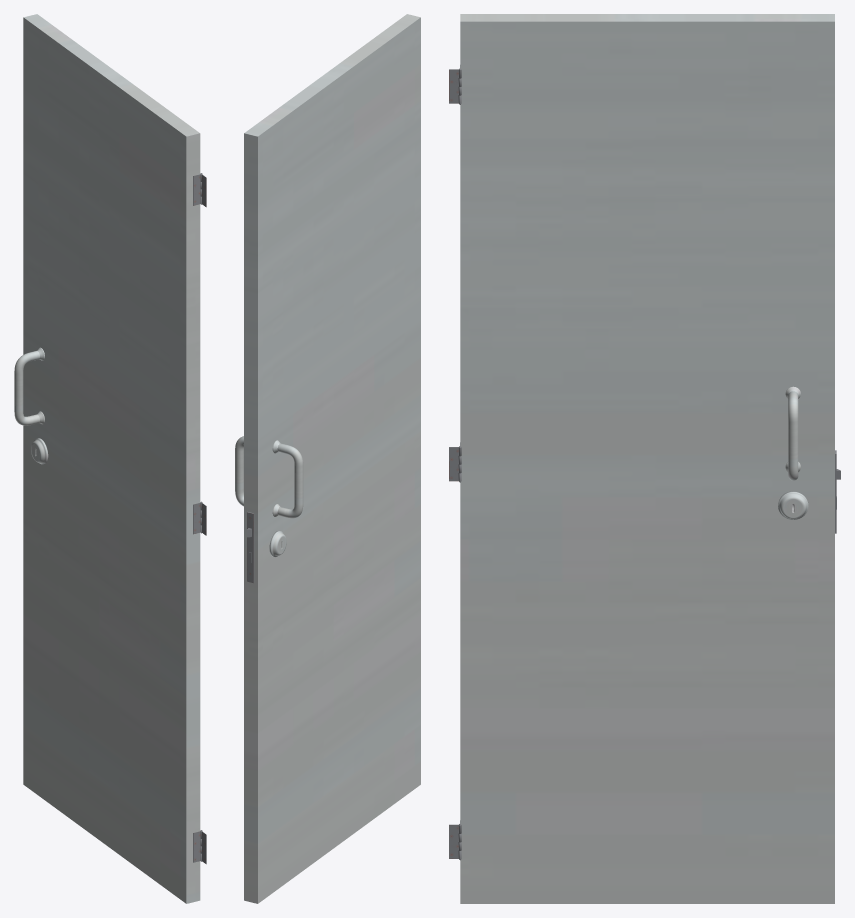
File: SM_Door.fbx
3 views of the same model, side by side, from view 1: azimuth 30°, elevation 25°; view 2: azimuth 150°, elevation 25°; view 3: azimuth 270°, elevation 25° (orthographic). The views are drawn at different scales.
Visible parts, largest first — view 1: Puerta, PuertaArmado, PuertaPomo; view 2: Puerta, PuertaPomo, PuertaArmado; view 3: Puerta, PuertaArmado, PuertaPomo.
Part boxes in pixels (x1,y1,x2,y2): Puerta: (23, 14, 200, 903); PuertaArmado: (193, 173, 206, 864); PuertaPomo: (14, 347, 44, 425); Puerta: (244, 14, 420, 903); PuertaPomo: (235, 436, 303, 518); PuertaArmado: (247, 512, 254, 582); Puerta: (460, 14, 834, 903); PuertaArmado: (449, 65, 840, 860); PuertaPomo: (785, 386, 800, 480).
Size of the model in its own units: 19.24 by 210 by 84.64.
1 material, 1 textured.
